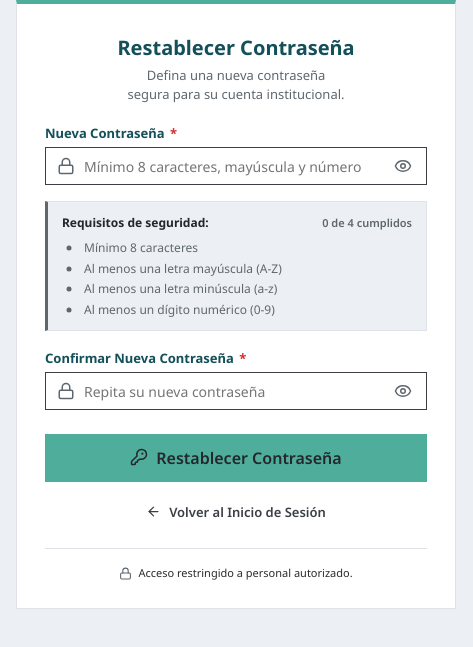
Scenario: RestablecerContrasenaForm (HU-65) › Cuando se provee token en la URL › debe validar que ambas contraseñas coincidan exactamente
Type "Valdivia2026!" into the password field labelled "Nueva Contraseña *" at (236, 166), box [45,147,427,185]
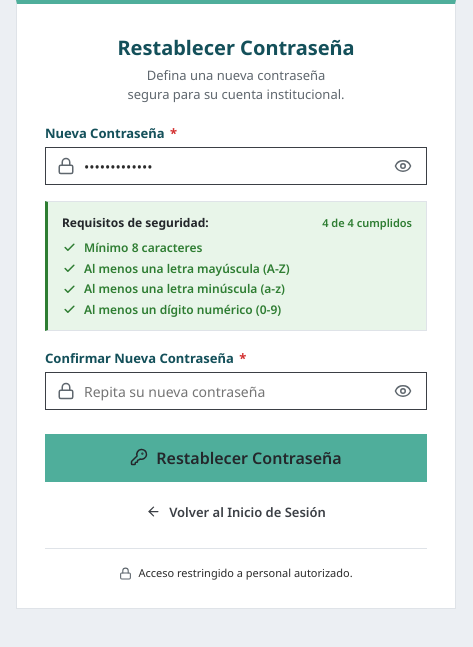
Type "Valdivia2026Diferente" into the password field labelled "Confirmar Nueva Contraseña *" at (236, 391), box [45,372,427,410]
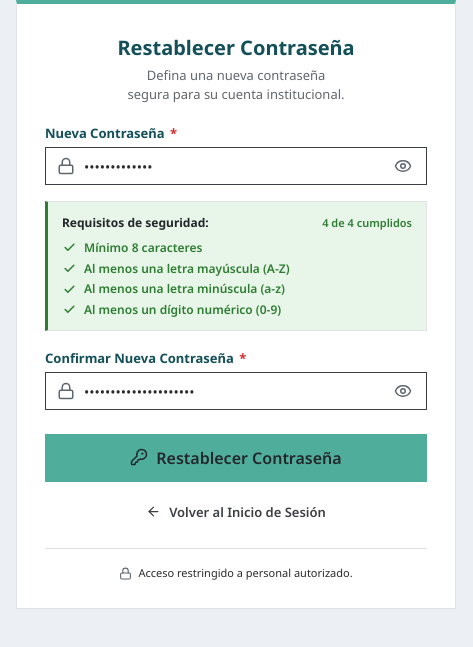
Click the button "Restablecer Contraseña" at (236, 458), box [45,434,427,482]
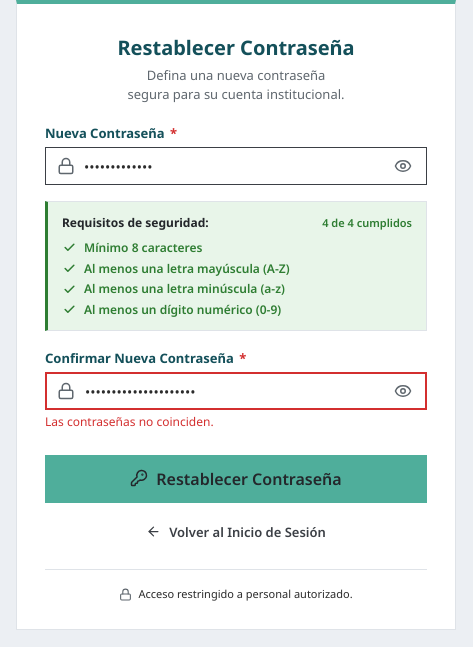
Expected: the text "Las contraseñas no coinciden." is shown, [45,413,214,430]
